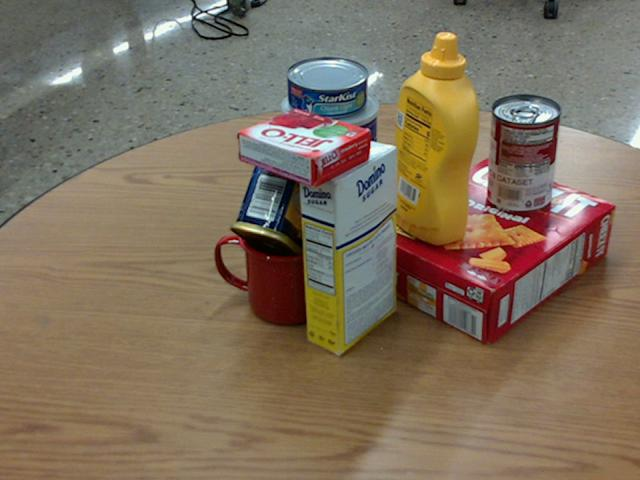cracker_box: (360, 156, 613, 344)
gelatin_box: (235, 106, 371, 187)
large_marker: (409, 113, 428, 214)
master_chef_can: (282, 83, 379, 239)
mug: (212, 208, 331, 324)
mustard_bottle: (387, 31, 478, 244)
potted_meat_can: (229, 143, 333, 265)
sugar_box: (296, 138, 395, 354)
tomato_soup_can: (486, 93, 559, 211)
tuna_fish_can: (285, 56, 368, 117)
